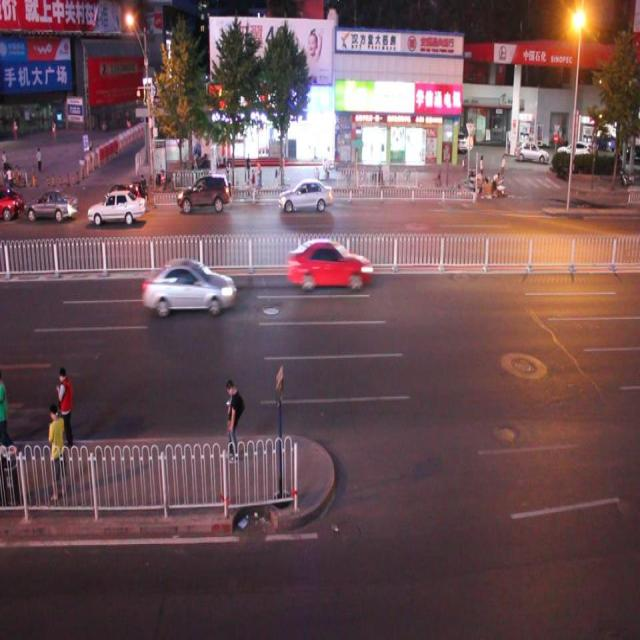car: (140, 254, 236, 315), (285, 236, 373, 291), (280, 173, 334, 215), (176, 171, 231, 212), (88, 189, 144, 225), (26, 185, 80, 222), (101, 180, 145, 223)
